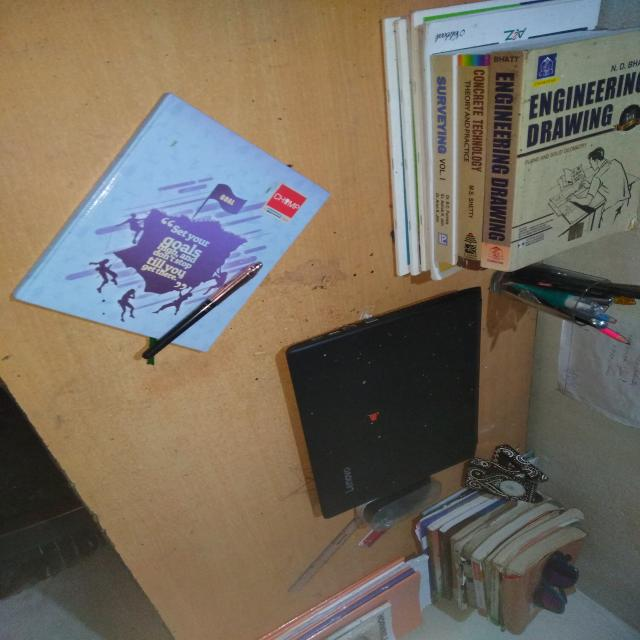book: (12, 95, 329, 355), (432, 48, 640, 271)
laptop: (268, 285, 492, 525)
pen: (115, 259, 264, 359)
